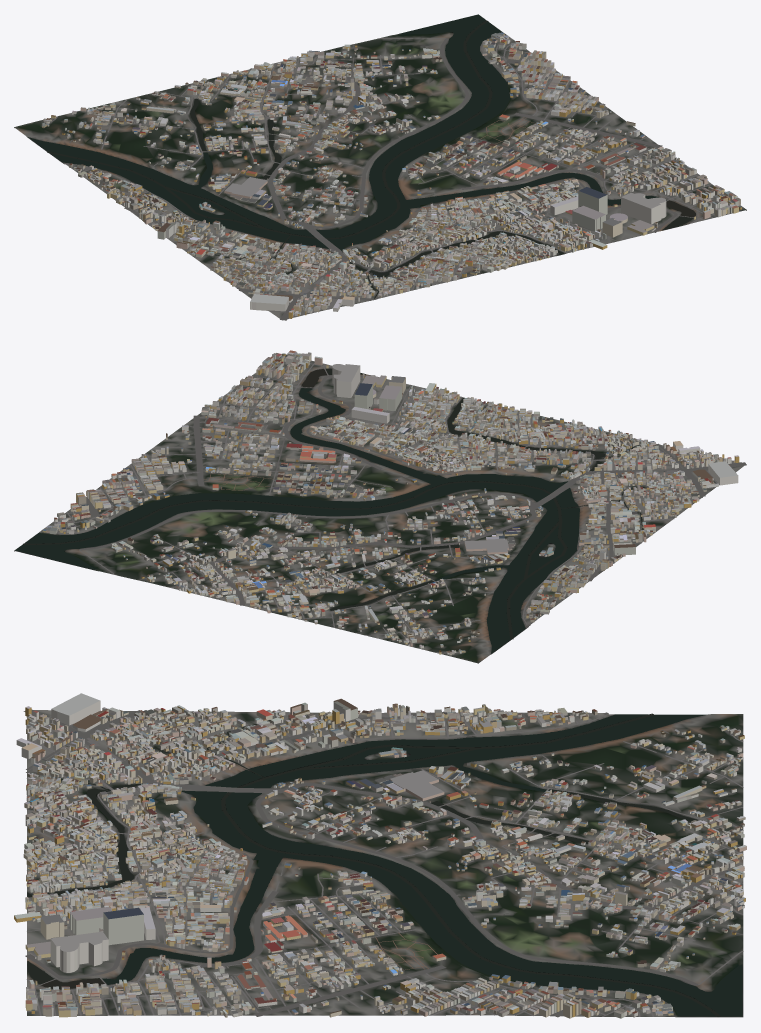
The picture shows the model from 3 angles, top to bottom: view 1: azimuth 30°, elevation 25°; view 2: azimuth 150°, elevation 25°; view 3: azimuth 270°, elevation 25°; orthographic projection. The views are drawn at different scales.
Visible parts, largest first — view 1: buildings, ground, water, roads; view 2: buildings, ground, water, roads; view 3: buildings, ground, water, roads.
Boxes of the visible parts, x1,y1,x2,y2 form: buildings: [42, 32, 741, 318]; ground: [14, 18, 746, 318]; water: [28, 14, 695, 298]; roads: [51, 38, 741, 320]; buildings: [42, 350, 739, 655]; ground: [14, 353, 746, 663]; water: [15, 368, 644, 653]; roads: [48, 363, 746, 652]; buildings: [14, 693, 746, 1018]; ground: [27, 710, 743, 1017]; water: [27, 713, 742, 1017]; roads: [23, 709, 743, 1017].
Size of the model in its own units: 1445 by 61.64 by 1433.
